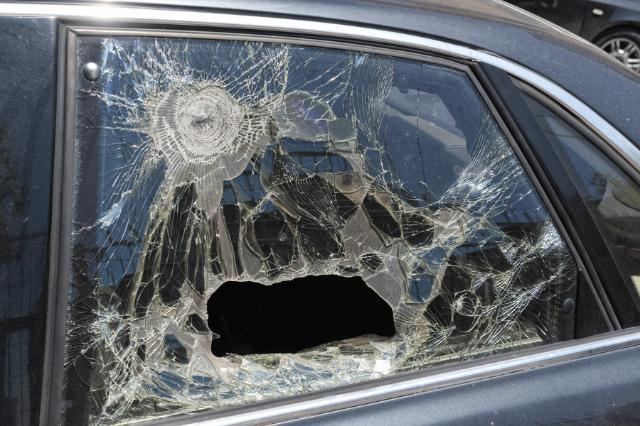Door: (56, 19, 640, 426)
